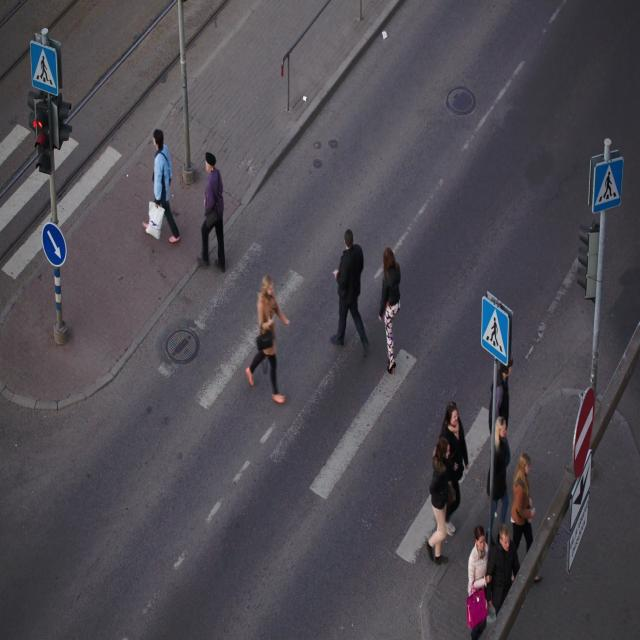pedestrian: (468, 453, 535, 639), (428, 401, 468, 564), (245, 275, 289, 402), (330, 229, 369, 352), (143, 129, 180, 243), (199, 152, 225, 271), (379, 247, 401, 374), (494, 415, 510, 491)
